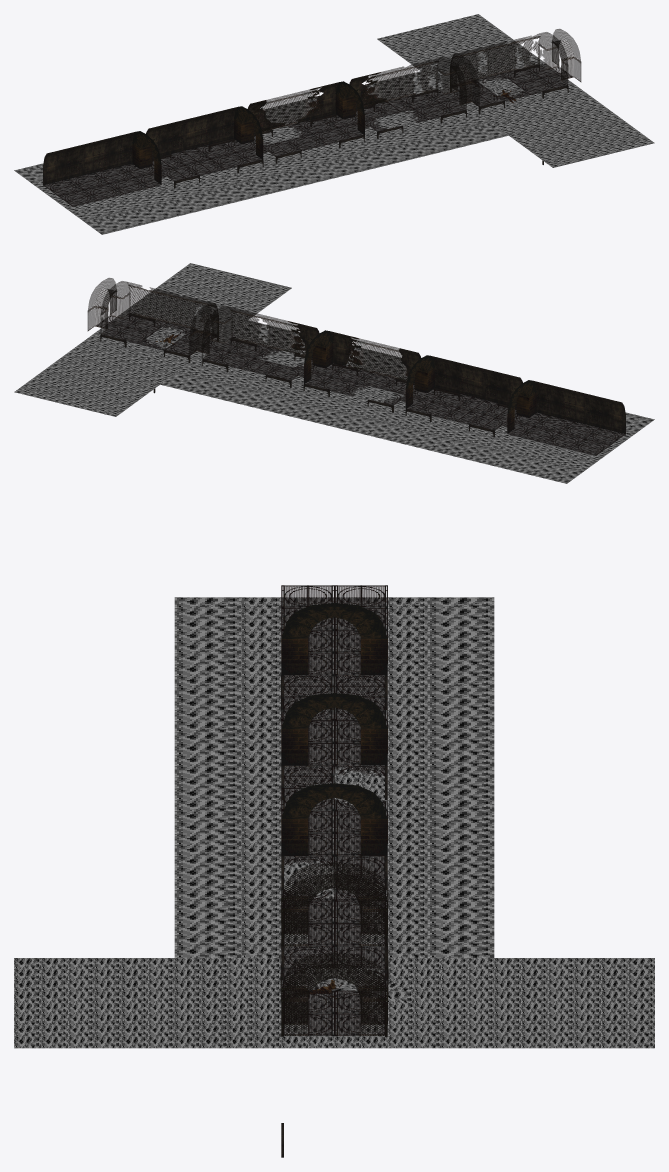
File: DRU0100.glb
3 views of the same model, one above another, from view 1: azimuth 30°, elevation 25°; view 2: azimuth 150°, elevation 25°; view 3: azimuth 270°, elevation 25° (orthographic). The views are drawn at different scales.
Visible parts, largest first — view 1: 02NAMI1_#6_m0, 02NAMI1__m0, 02NAMI1_#4_m0, 02NAMI1_#5_m0, 02NAMI1_#1_m0, 02NAMI1_#7_m0, 02NAMI1_#2_m0, 02NAMI3__m0, 02NAMI3_#1_m0, 02NAMI3_#4_m0, 02NAMI1_#3_m0, 02NAMI3_#3_m0 (+32 smaller); view 2: 02NAMI1_#6_m0, 02NAMI1_#4_m0, 02NAMI1__m0, 02NAMI1_#5_m0, 02NAMI1_#7_m0, 02NAMI1_#1_m0, 02NAMI1_#2_m0, 02NAMI3_#3_m0, 02NAMI3_#4_m0, 02NAMI3_#1_m0, 02NAMI1_#3_m0, 02NAMI3__m0 (+30 smaller); view 3: 02NAMI1_#6_m0, 02NAMI1_#7_m0, 02NAMI1_#2_m0, 02NAMI1_#1_m0, 02NAMI1_#4_m0, 02NAMI1_#5_m0, 02NAMI1__m0, 02NAMI1_#3_m0, 02NAMI3_#1_m0, 02NAMI3_#4_m0, 02NAMI3__m0, 02NAMI3_#3_m0 (+19 smaller).
Part boxes in pixels (box(x1,y1,x2,y2)): 02NAMI1_#6_m0: box(372, 71, 508, 147); 02NAMI1__m0: box(14, 163, 152, 234); 02NAMI1_#4_m0: box(269, 96, 406, 172); 02NAMI1_#5_m0: box(248, 108, 356, 185); 02NAMI1_#1_m0: box(89, 164, 203, 222); 02NAMI1_#7_m0: box(350, 84, 457, 160); 02NAMI1_#2_m0: box(190, 140, 304, 197); 02NAMI3__m0: box(495, 112, 603, 167); 02NAMI3_#1_m0: box(546, 100, 654, 155); 02NAMI3_#4_m0: box(428, 14, 536, 69); 02NAMI1_#3_m0: box(147, 150, 254, 209); 02NAMI3_#3_m0: box(377, 26, 485, 81); 02NAMI1_#6_m0: box(160, 320, 296, 396); 02NAMI1_#4_m0: box(262, 347, 399, 421); 02NAMI1__m0: box(516, 412, 654, 483); 02NAMI1_#5_m0: box(312, 357, 420, 433); 02NAMI1_#7_m0: box(211, 333, 318, 409); 02NAMI1_#1_m0: box(465, 413, 580, 471); 02NAMI1_#2_m0: box(363, 389, 478, 446); 02NAMI3_#3_m0: box(65, 361, 173, 416); 02NAMI3_#4_m0: box(14, 349, 122, 404); 02NAMI3_#1_m0: box(132, 263, 241, 318); 02NAMI1_#3_m0: box(414, 399, 522, 458); 02NAMI3__m0: box(183, 275, 291, 330); 02NAMI1_#6_m0: box(174, 912, 494, 957); 02NAMI1_#7_m0: box(174, 867, 494, 912); 02NAMI1_#2_m0: box(174, 732, 494, 777); 02NAMI1_#1_m0: box(174, 642, 494, 687); 02NAMI1_#4_m0: box(174, 823, 494, 867); 02NAMI1_#5_m0: box(174, 777, 494, 822); 02NAMI1__m0: box(174, 597, 494, 642); 02NAMI1_#3_m0: box(174, 687, 494, 732); 02NAMI3_#1_m0: box(14, 1003, 228, 1048); 02NAMI3_#4_m0: box(440, 1003, 654, 1048); 02NAMI3__m0: box(14, 958, 228, 1002); 02NAMI3_#3_m0: box(440, 958, 654, 1002).
Bounding box in the file's own units: 40.04 × 8.5 × 24.04.
Materials: 15 (15 with a texture image).
